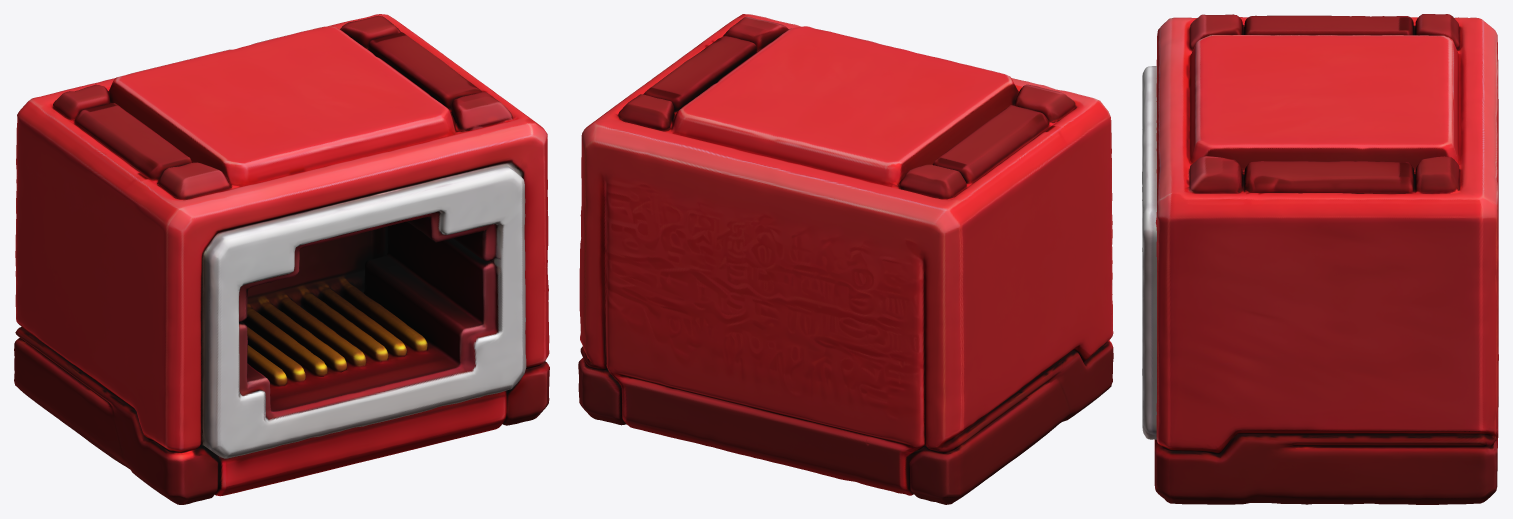
File: red_socket.fbx
3 views of the same model, side by side, from view 1: azimuth 30°, elevation 25°; view 2: azimuth 150°, elevation 25°; view 3: azimuth 270°, elevation 25° (orthographic). The views are drawn at different scales.
Parts seen in each view (by area): view 1: model.003; view 2: model.003; view 3: model.003.
Boxes of the visible parts, bbox=[...] form: model.003: bbox=[14, 14, 549, 504]; model.003: bbox=[578, 14, 1113, 504]; model.003: bbox=[1142, 14, 1498, 504].
Size of the model in its own units: 99.5 by 77.66 by 77.28.
Materials: 1 (1 with a texture image).
